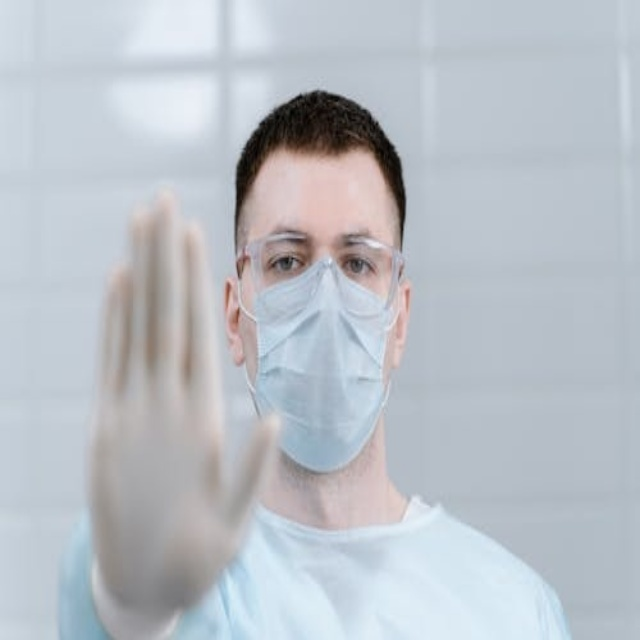Gafas: (239, 232, 406, 316)
Guantes: (85, 187, 283, 636)
Mascara: (239, 242, 400, 471)
